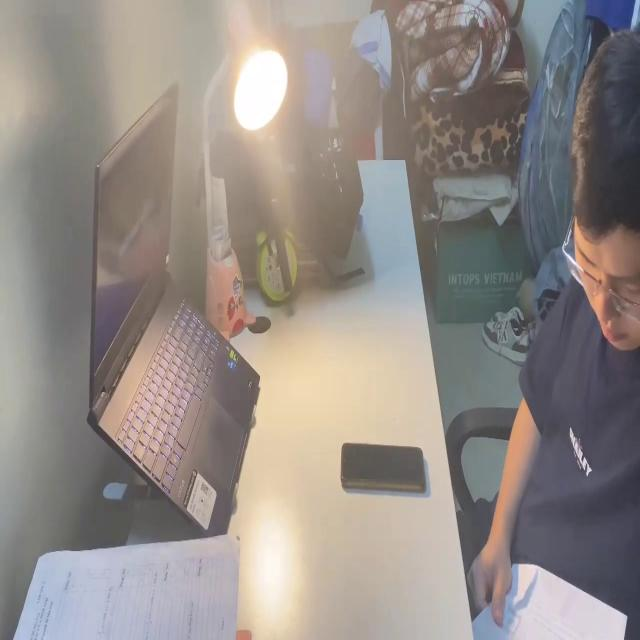book: (11, 532, 251, 640), (468, 557, 628, 640)
laptop: (85, 78, 262, 533)
phone: (340, 438, 427, 498)
student: (469, 22, 640, 640)
